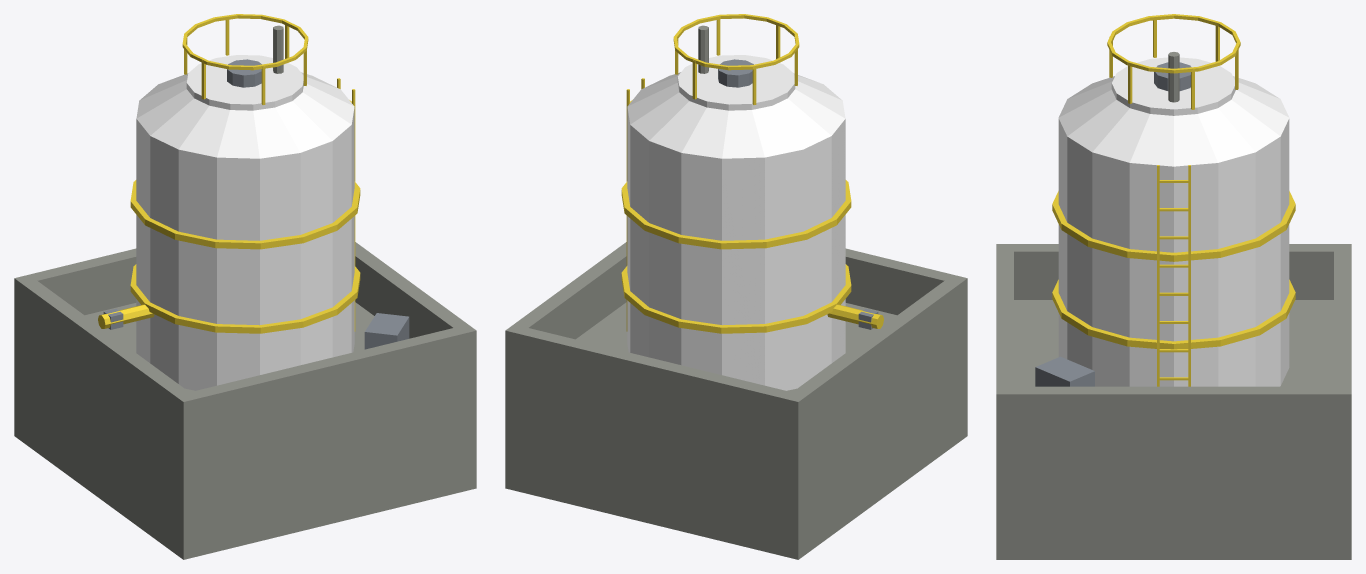
The model's file is site_digester.fbx.
3 views of the same model, side by side, from view 1: azimuth 30°, elevation 25°; view 2: azimuth 150°, elevation 25°; view 3: azimuth 270°, elevation 25° (orthographic). The views are drawn at different scales.
Visible parts, largest first — view 1: a1058/0/site_digester; view 2: a1058/0/site_digester; view 3: a1058/0/site_digester.
Part boxes in pixels (x1=…): a1058/0/site_digester: x1=14, y1=14, x2=476, y2=559; a1058/0/site_digester: x1=505, y1=14, x2=967, y2=559; a1058/0/site_digester: x1=996, y1=14, x2=1351, y2=559.
Bounding box in the file's own units: 8 × 11.12 × 8.
